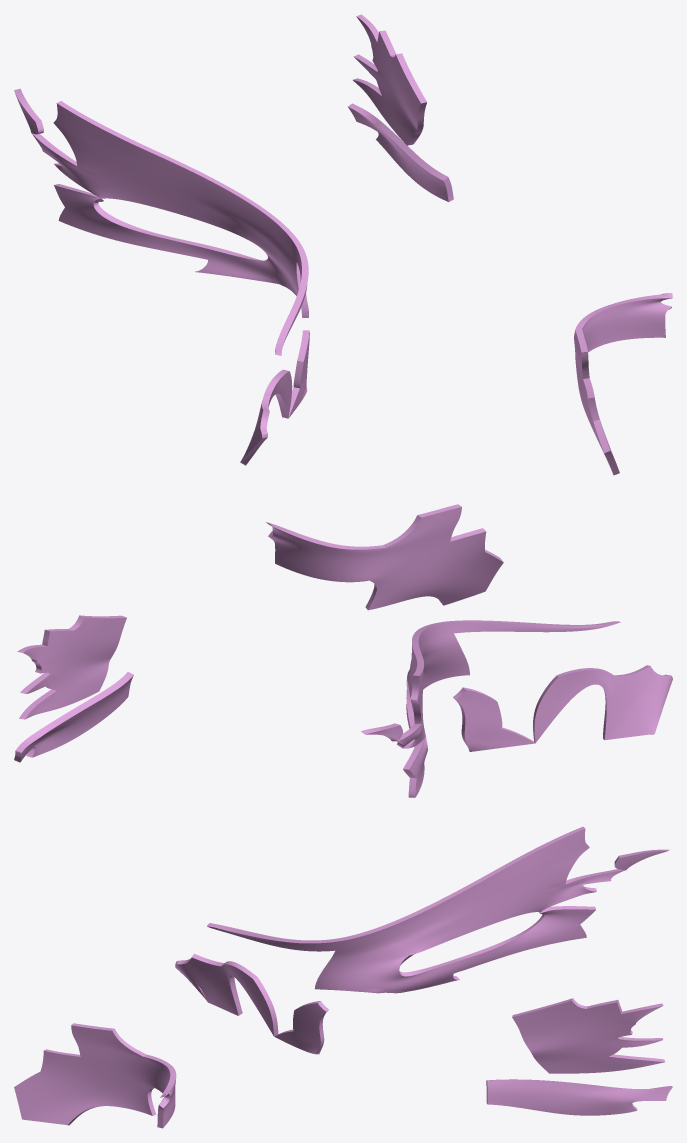
The model's file is FACADE_S.glb.
The picture shows the model from 3 angles, top to bottom: view 1: azimuth 30°, elevation 25°; view 2: azimuth 150°, elevation 25°; view 3: azimuth 270°, elevation 25°; orthographic projection. The views are drawn at different scales.
Visible parts, largest first — view 1: FACADE_S (×11); view 2: FACADE_S (×8); view 3: FACADE_S (×22).
Boxes of the visible parts, bbox=[...] form: FACADE_S (×11): bbox=[54, 14, 672, 475]; FACADE_S (×8): bbox=[14, 504, 672, 778]; FACADE_S (×22): bbox=[14, 826, 672, 1128].
Size of the model in its own units: 69.49 by 33.64 by 108.
